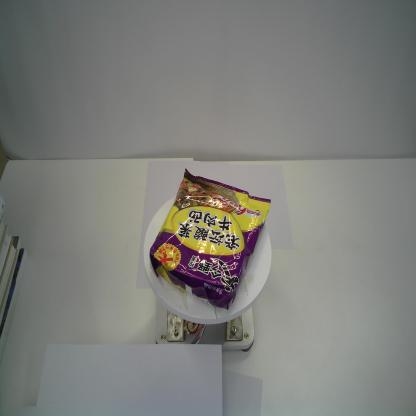Instant Noodles: (148, 165, 272, 311)
